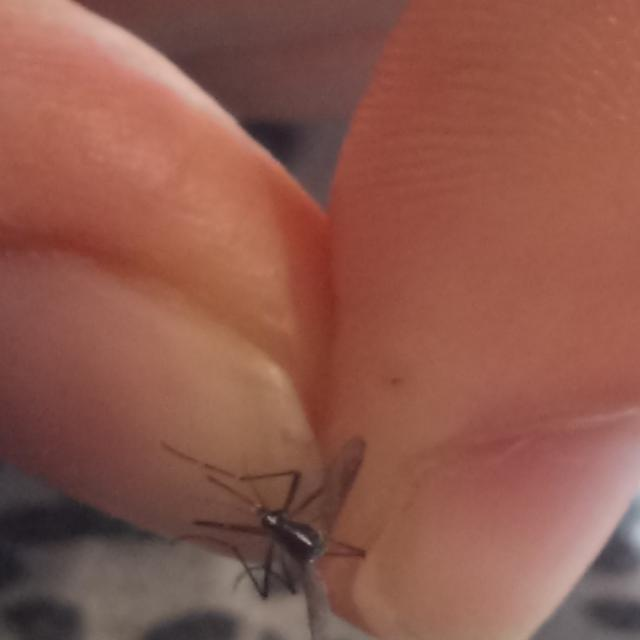albopictus: (151, 428, 371, 604)
